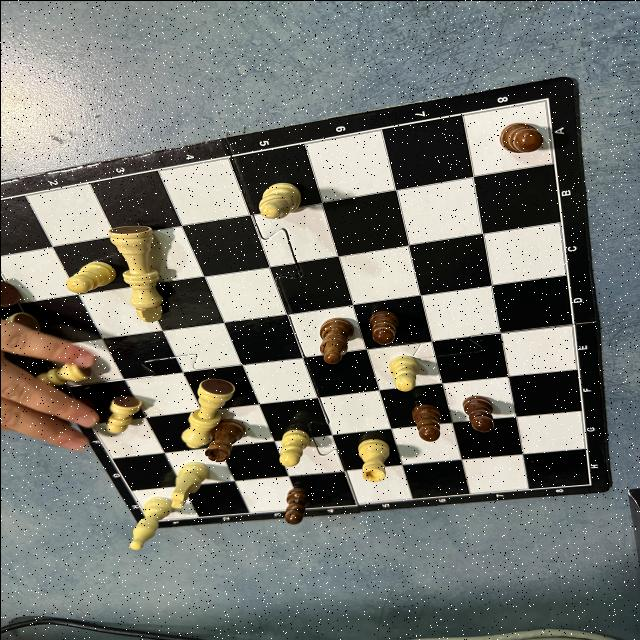Black-Bishop: (317, 317, 353, 363)
Black-Pawn: (498, 122, 542, 152), (462, 395, 494, 431), (412, 402, 439, 440), (369, 310, 398, 344), (284, 486, 308, 524)
Black-Rook: (204, 418, 244, 462)
White-Bishop: (128, 496, 172, 550), (259, 182, 301, 220)
White-King: (108, 225, 162, 321)
White-Knight: (170, 462, 208, 508)
White-Pawn: (65, 260, 114, 292), (105, 394, 141, 432), (36, 360, 91, 384), (278, 428, 308, 466), (388, 354, 417, 390)
White-Queen: (182, 378, 234, 448)
White-Rook: (356, 438, 388, 481)
